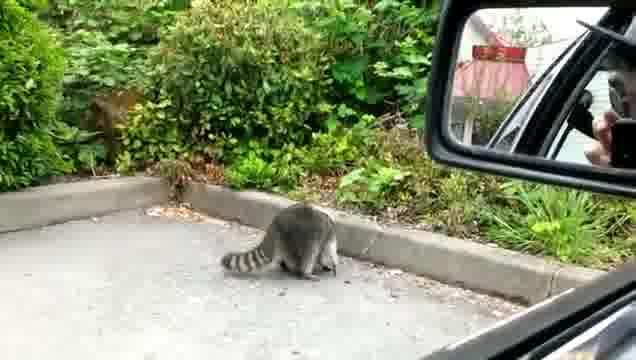raccoon: (224, 204, 340, 283)
